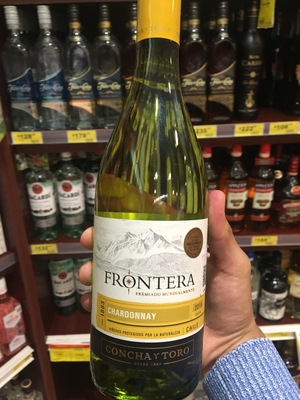frontera chardonnay: (93, 3, 208, 391)
